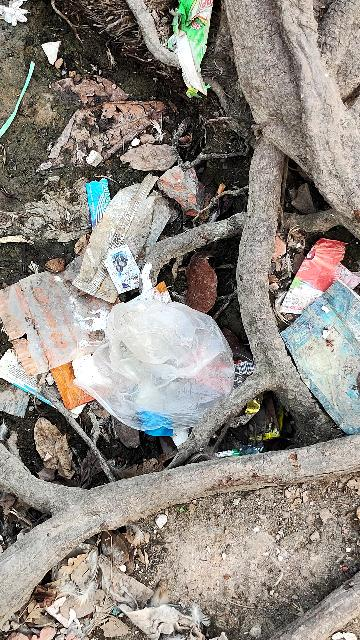polythene: (61, 264, 260, 457)
